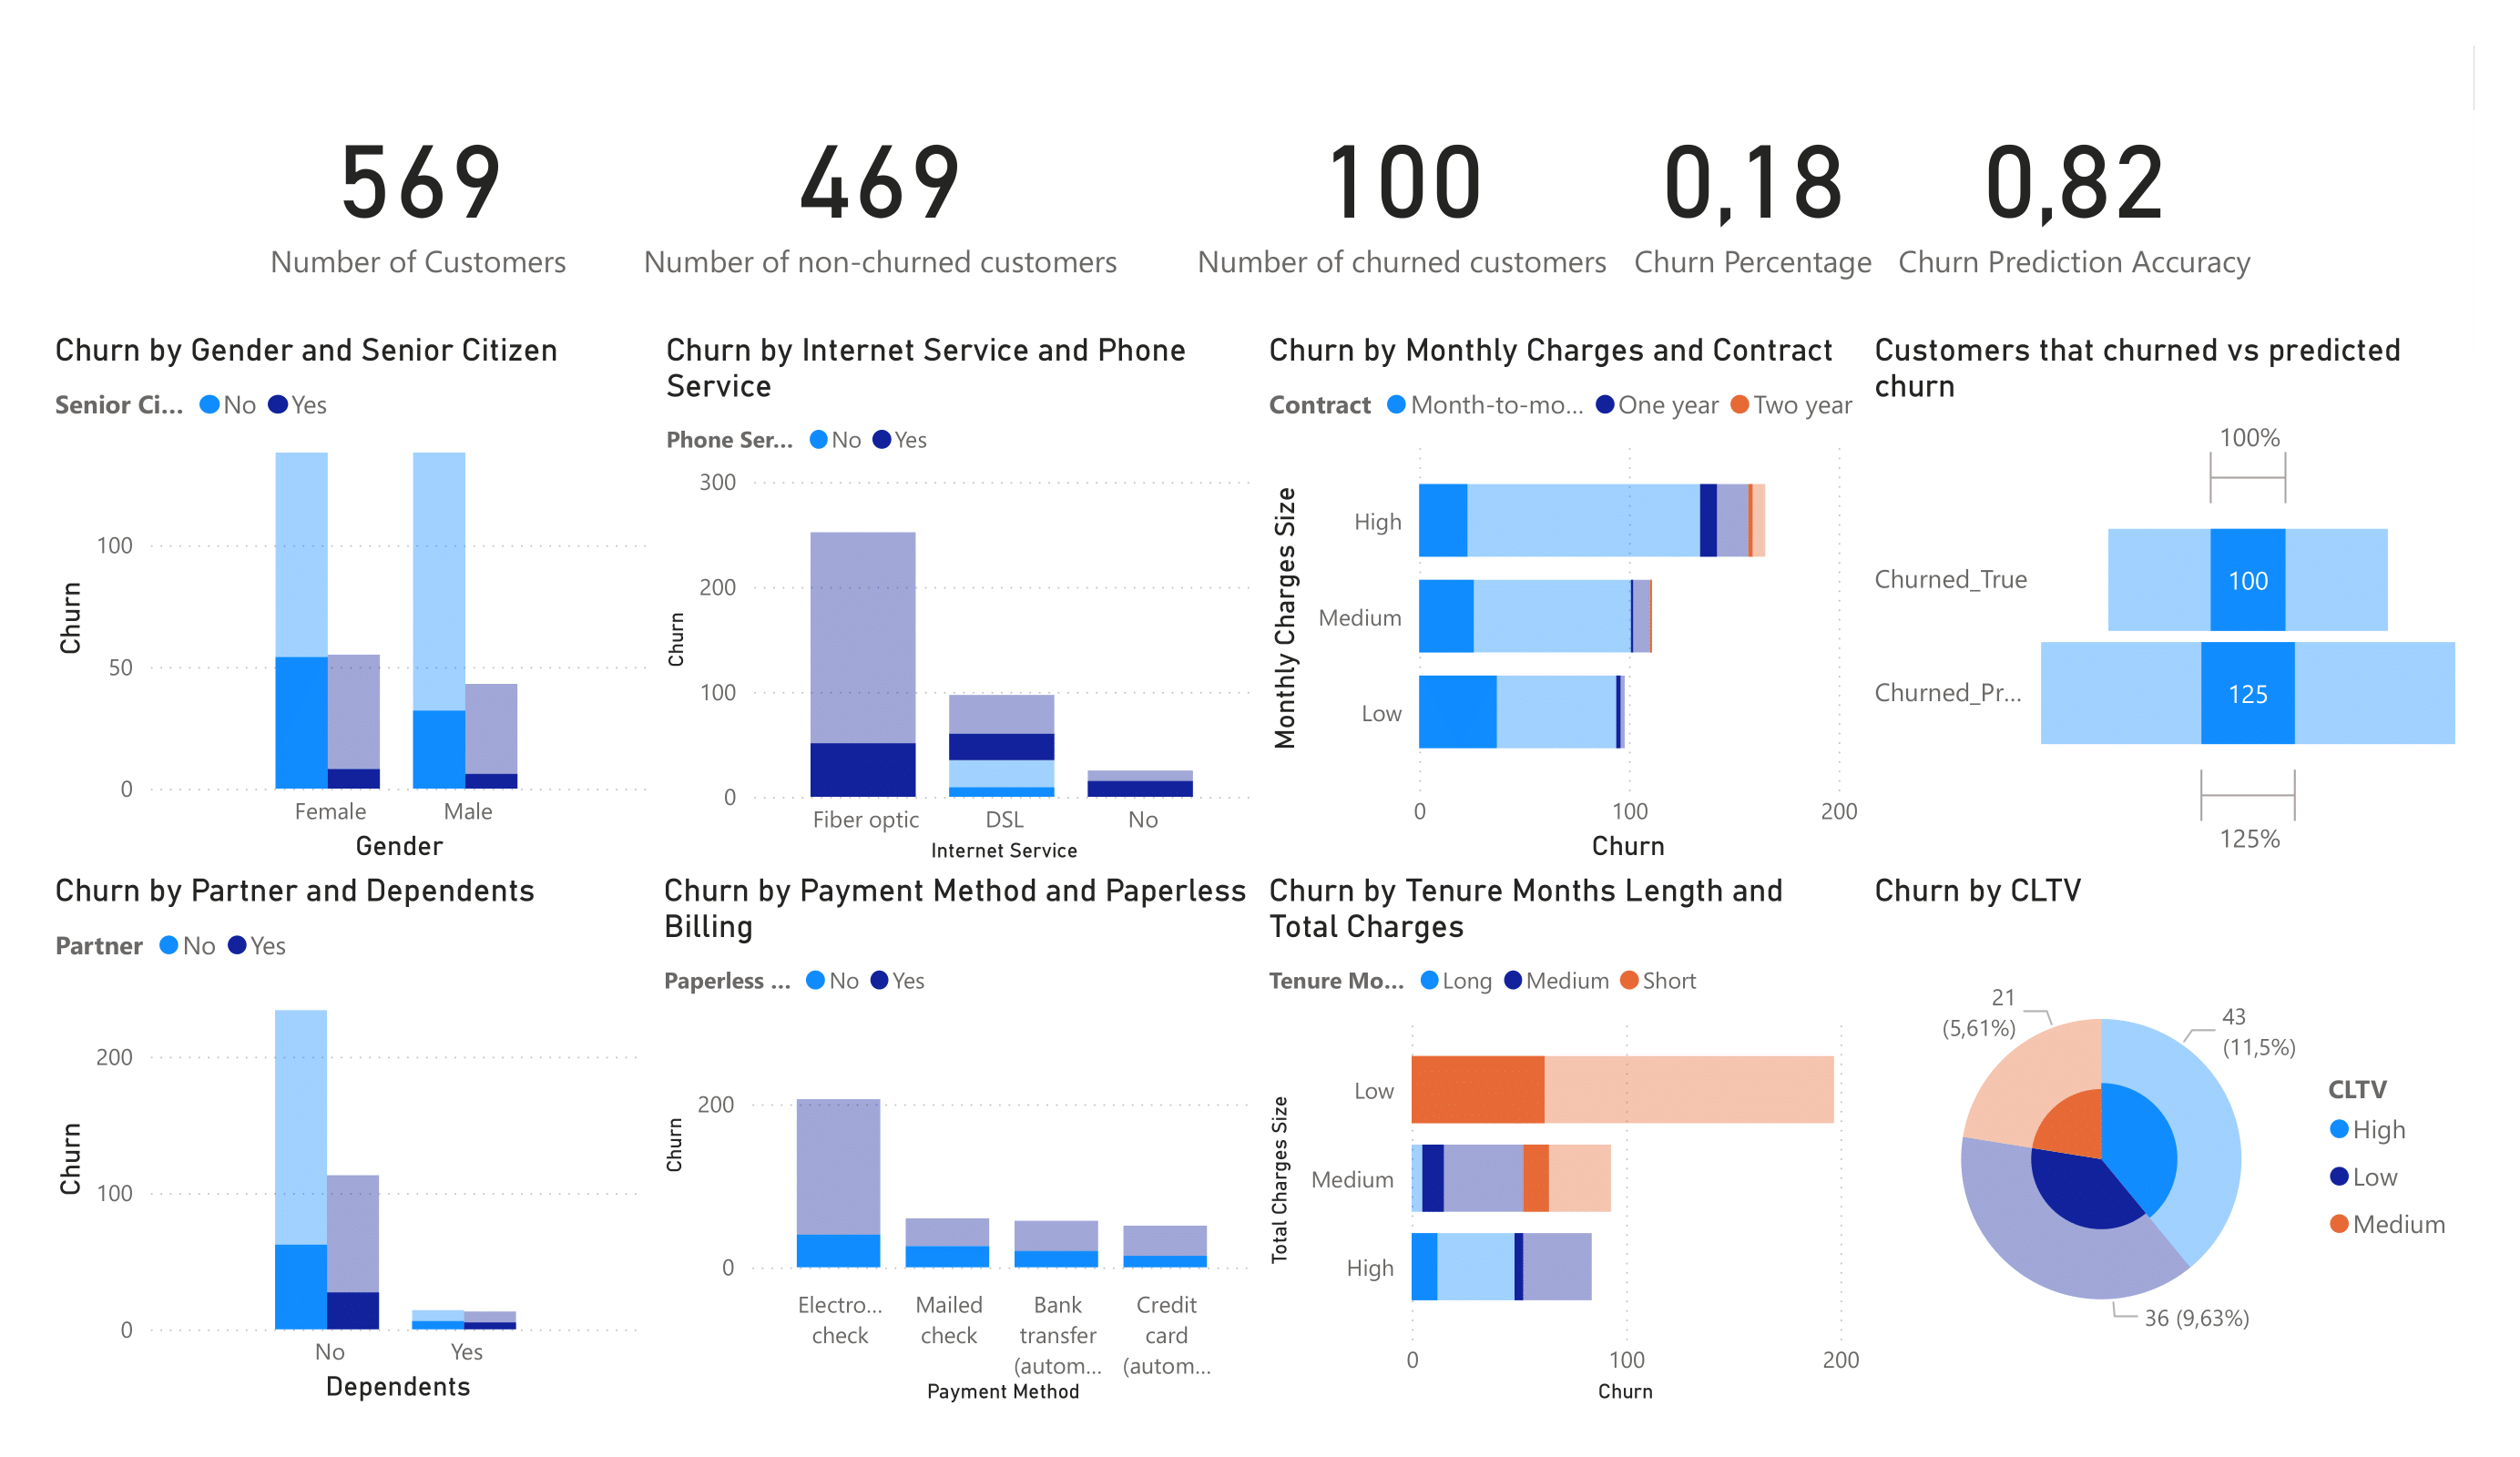

Layout of this report page (visuals, bound fields, positions):
{"tool":"powerbi","page":{"name":"Side 1","canvas":[1280,720],"ordinal":0},"visuals":[{"type":"card","fields":{"Values":["Avg(Forespørgsel1.y_true)"]},"box":[829.7,0,140.1,149.8],"z":0},{"type":"pieChart","title":"Churn by CLTV","fields":{"Y":["Sum(Attributes.y_true)"],"Category":["Attributes.CLTV Size"]},"box":[959,434.8,321,285],"z":1000},{"type":"card","fields":{"Values":["Attributes.Churn Prediction Accuracy"]},"box":[969.7,0,199.4,149.8],"z":2000},{"type":"barChart","title":"Churn by Tenure Months Length and Total Charges","fields":{"Category":["Attributes.Total Charges Size"],"Series":["Attributes.Tenure Months Length"],"Y":["Sum(Attributes.y_true)"]},"box":[640,434.8,321,285],"z":3000},{"type":"barChart","title":"Churn by Monthly Charges and Contract","fields":{"Category":["Attributes.Monthly Charges Size"],"Y":["Sum(Attributes.y_true)"],"Series":["Attributes.Contract"]},"box":[640,149.8,320,285],"z":4000},{"type":"columnChart","title":"Churn by Payment Method and Paperless Billing","fields":{"Category":["Attributes.Payment Method"],"Y":["Sum(Attributes.y_true)"],"Series":["Attributes.Paperless Billing"]},"box":[321,434.8,321,285],"z":5000},{"type":"columnChart","title":"Churn by Internet Service and Phone Service","fields":{"Category":["Attributes.Internet Service"],"Y":["Sum(Attributes.y_true)"],"Series":["Attributes.Phone Service"]},"box":[321.9,149.8,320,285],"z":6000},{"type":"clusteredColumnChart","title":"Churn by Partner and Dependents","fields":{"Category":["Attributes.Dependents"],"Series":["Attributes.Partner"],"Y":["Sum(Attributes.y_true)"]},"box":[0,434.8,321,285],"z":7000},{"type":"clusteredColumnChart","title":"Churn by Gender and Senior Citizen","fields":{"Category":["Attributes.Gender"],"Series":["Attributes.Senior Citizen"],"Y":["Sum(Attributes.y_true)"]},"box":[0,149.8,321.9,285],"z":8000},{"type":"funnel","title":"Customers that churned vs predicted churn","fields":{"Y":["Sum(Attributes.y_true)","Sum(Attributes.y_pred)"]},"box":[959,149.8,321,285],"z":9000},{"type":"card","fields":{"Values":["CountNonNull(Attributes.y_true)"]},"box":[110.9,0,171.2,149.8],"z":10000},{"type":"card","fields":{"Values":["CountNonNull(Attributes.y_true)"]},"box":[600.1,0,229.5,149.8],"z":11000},{"type":"card","fields":{"Values":["CountNonNull(Attributes.y_true)"]},"box":[280.1,0,320,149.8],"z":12000}]}

Visuals, with their boxes in screenshot pixels (x1, y1, x2, y2):
card - Avg(Forespørgsel1.y_true): x1=1764, y1=66, x2=2026, y2=346
"Churn by CLTV" pieChart: x1=2006, y1=880, x2=2519, y2=1413
card - Attributes.Churn Prediction Accuracy: x1=2026, y1=66, x2=2400, y2=346
"Churn by Tenure Months Length and Total Charges" barChart: x1=1409, y1=880, x2=2010, y2=1413
"Churn by Monthly Charges and Contract" barChart: x1=1409, y1=346, x2=2008, y2=880
"Churn by Payment Method and Paperless Billing" columnChart: x1=811, y1=880, x2=1413, y2=1413
"Churn by Internet Service and Phone Service" columnChart: x1=812, y1=346, x2=1412, y2=880
"Churn by Partner and Dependents" clusteredColumnChart: x1=210, y1=880, x2=811, y2=1413
"Churn by Gender and Senior Citizen" clusteredColumnChart: x1=210, y1=346, x2=812, y2=880
"Customers that churned vs predicted churn" funnel: x1=2006, y1=346, x2=2519, y2=880
card - CountNonNull(Attributes.y_true): x1=418, y1=66, x2=739, y2=346
card - CountNonNull(Attributes.y_true): x1=1334, y1=66, x2=1763, y2=346
card - CountNonNull(Attributes.y_true): x1=735, y1=66, x2=1334, y2=346
